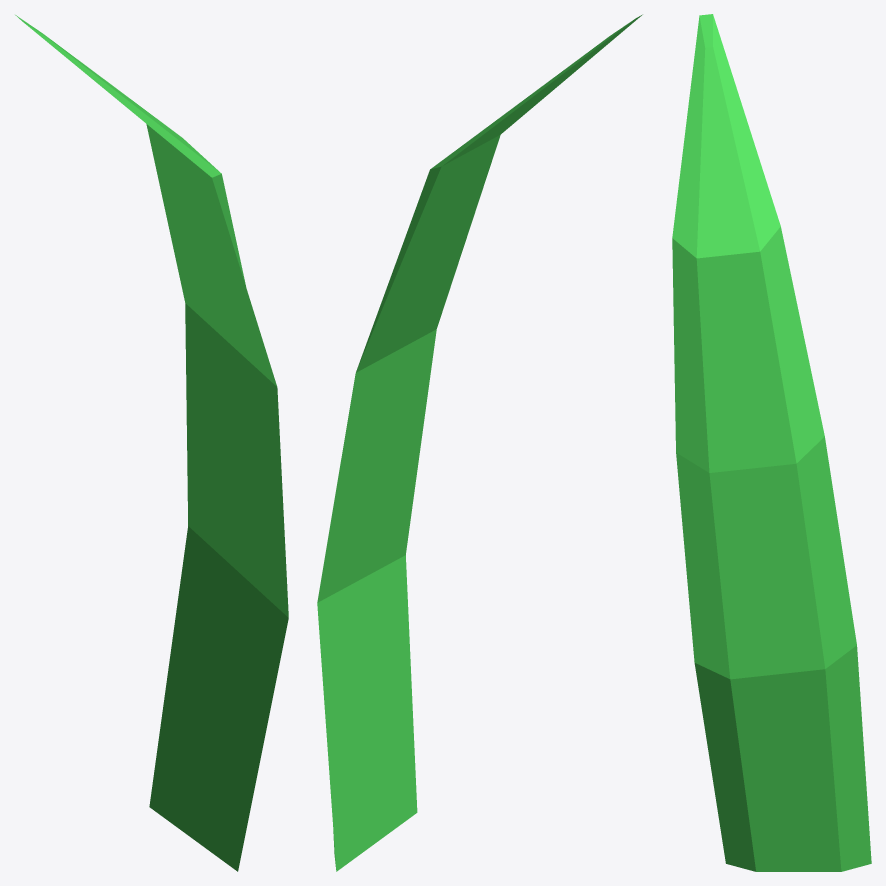
File: Grass1.fbx
The picture shows the model from 3 angles, left to right: view 1: azimuth 30°, elevation 25°; view 2: azimuth 150°, elevation 25°; view 3: azimuth 270°, elevation 25°; orthographic projection. The views are drawn at different scales.
Parts seen in each view (by area): view 1: Cube.001; view 2: Cube.001; view 3: Cube.001.
Boxes of the visible parts, <box> form: Cube.001: <box>15,15,288,871</box>; Cube.001: <box>317,14,642,871</box>; Cube.001: <box>672,14,871,871</box>.
Bounding box in the file's own units: 360 × 1146 × 274.
